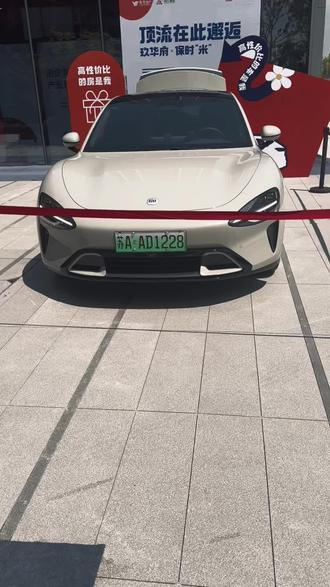su7: (42, 88, 284, 291)
